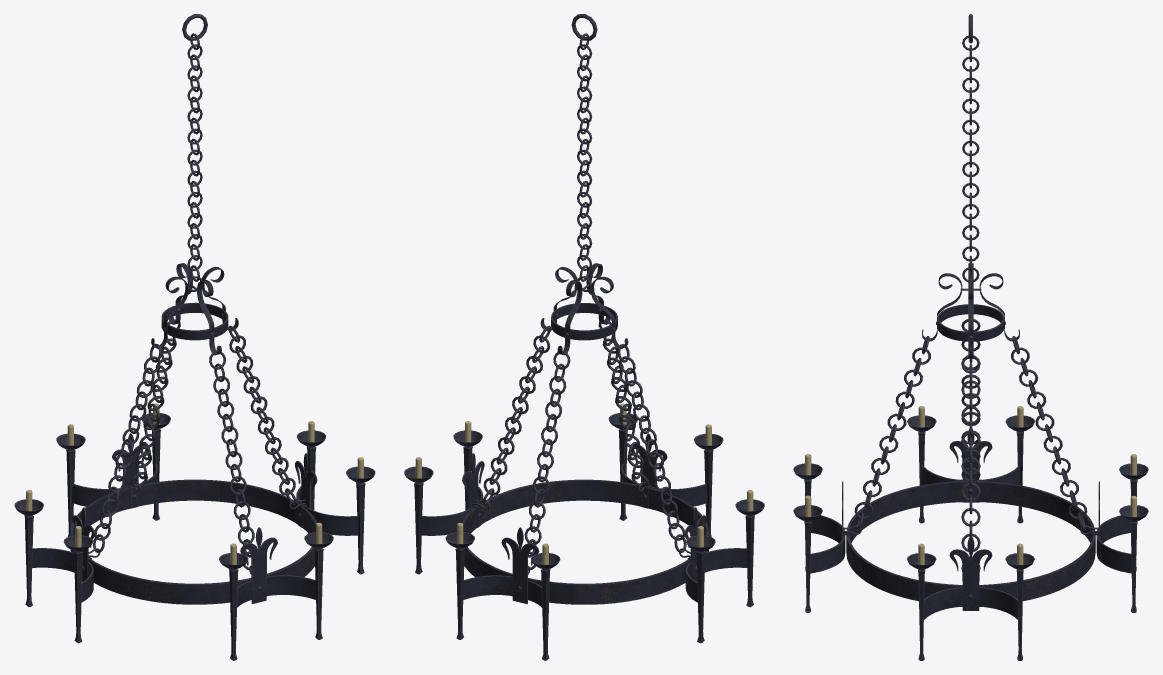
File: gothic_chandelier.fbx
3 views of the same model, side by side, from view 1: azimuth 30°, elevation 25°; view 2: azimuth 150°, elevation 25°; view 3: azimuth 270°, elevation 25° (orthographic).
Visible parts, largest first — view 1: main_low.004; view 2: main_low.004; view 3: main_low.004.
Boxes of the visible parts, x1=… form: main_low.004: x1=14, y1=14, x2=375, y2=660; main_low.004: x1=404, y1=14, x2=764, y2=660; main_low.004: x1=793, y1=14, x2=1148, y2=660.
Bounding box in the file's own units: 284 × 507 × 284.
